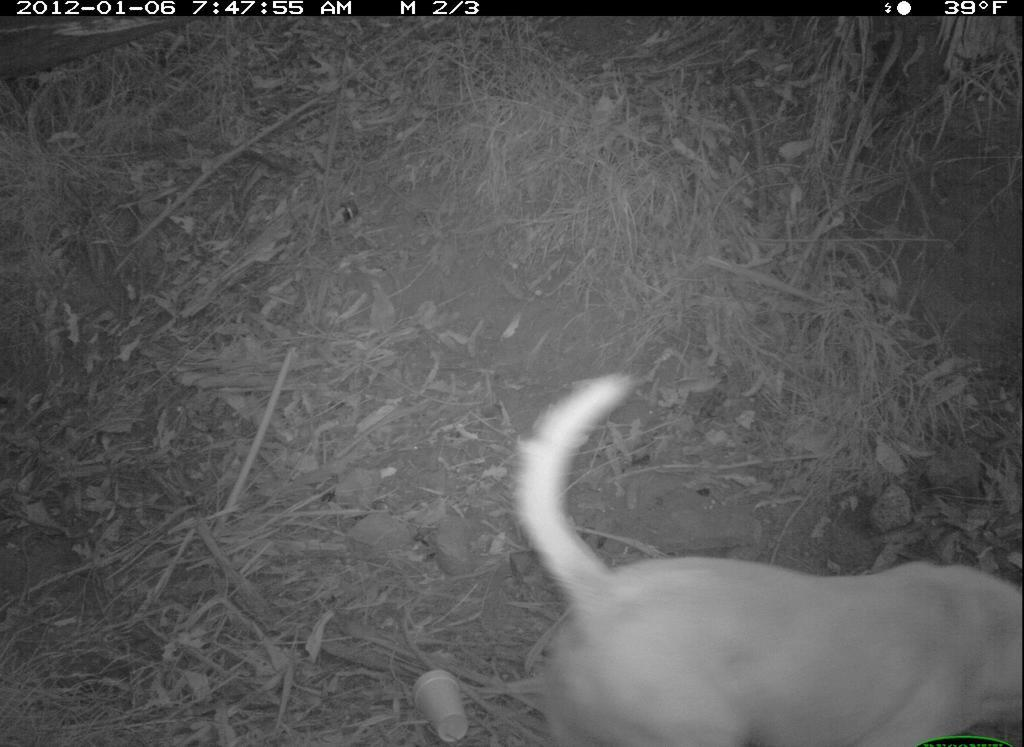dog: (484, 350, 1024, 747)
